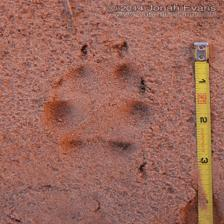fox: (41, 43, 156, 160)
